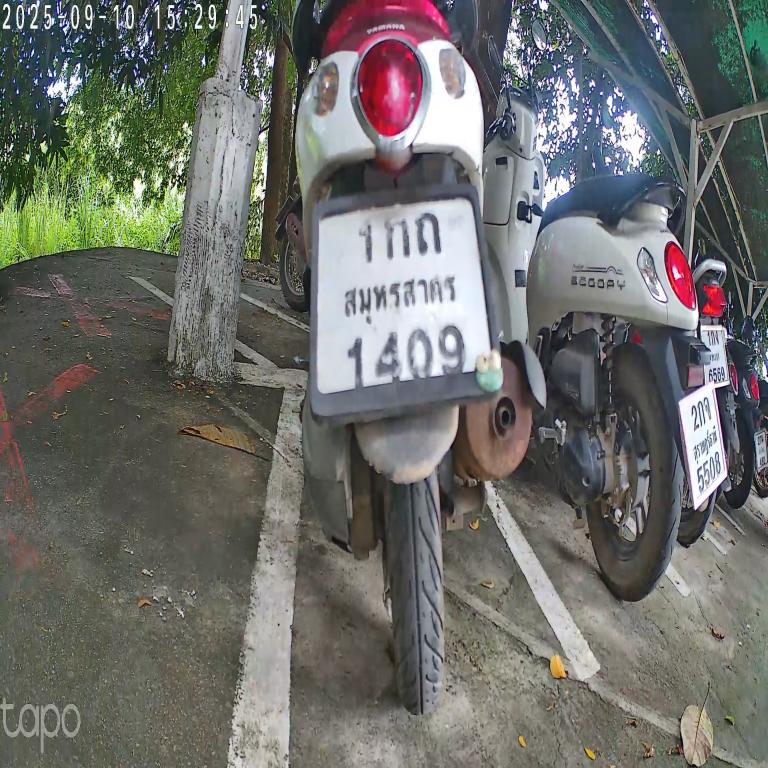license plate: (304, 177, 506, 435), (673, 371, 732, 518), (694, 314, 735, 398), (750, 416, 768, 478)
